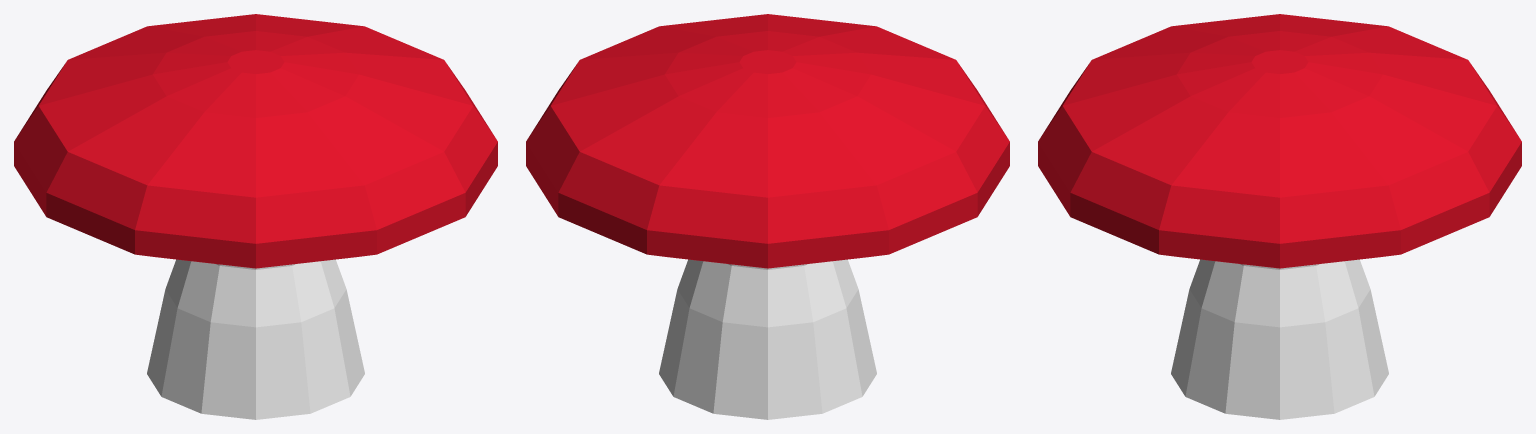
Rendered from mush2.fbx.
3 views of the same model, side by side, from view 1: azimuth 30°, elevation 25°; view 2: azimuth 150°, elevation 25°; view 3: azimuth 270°, elevation 25° (orthographic).
Parts seen in each view (by area): view 1: Cylinder; view 2: Cylinder; view 3: Cylinder.
Boxes of the visible parts, x1,y1,x2,y2 form: Cylinder: (14, 14, 497, 419); Cylinder: (526, 14, 1009, 419); Cylinder: (1038, 14, 1521, 419).
Size of the model in its own units: 1034 by 735 by 1034.
